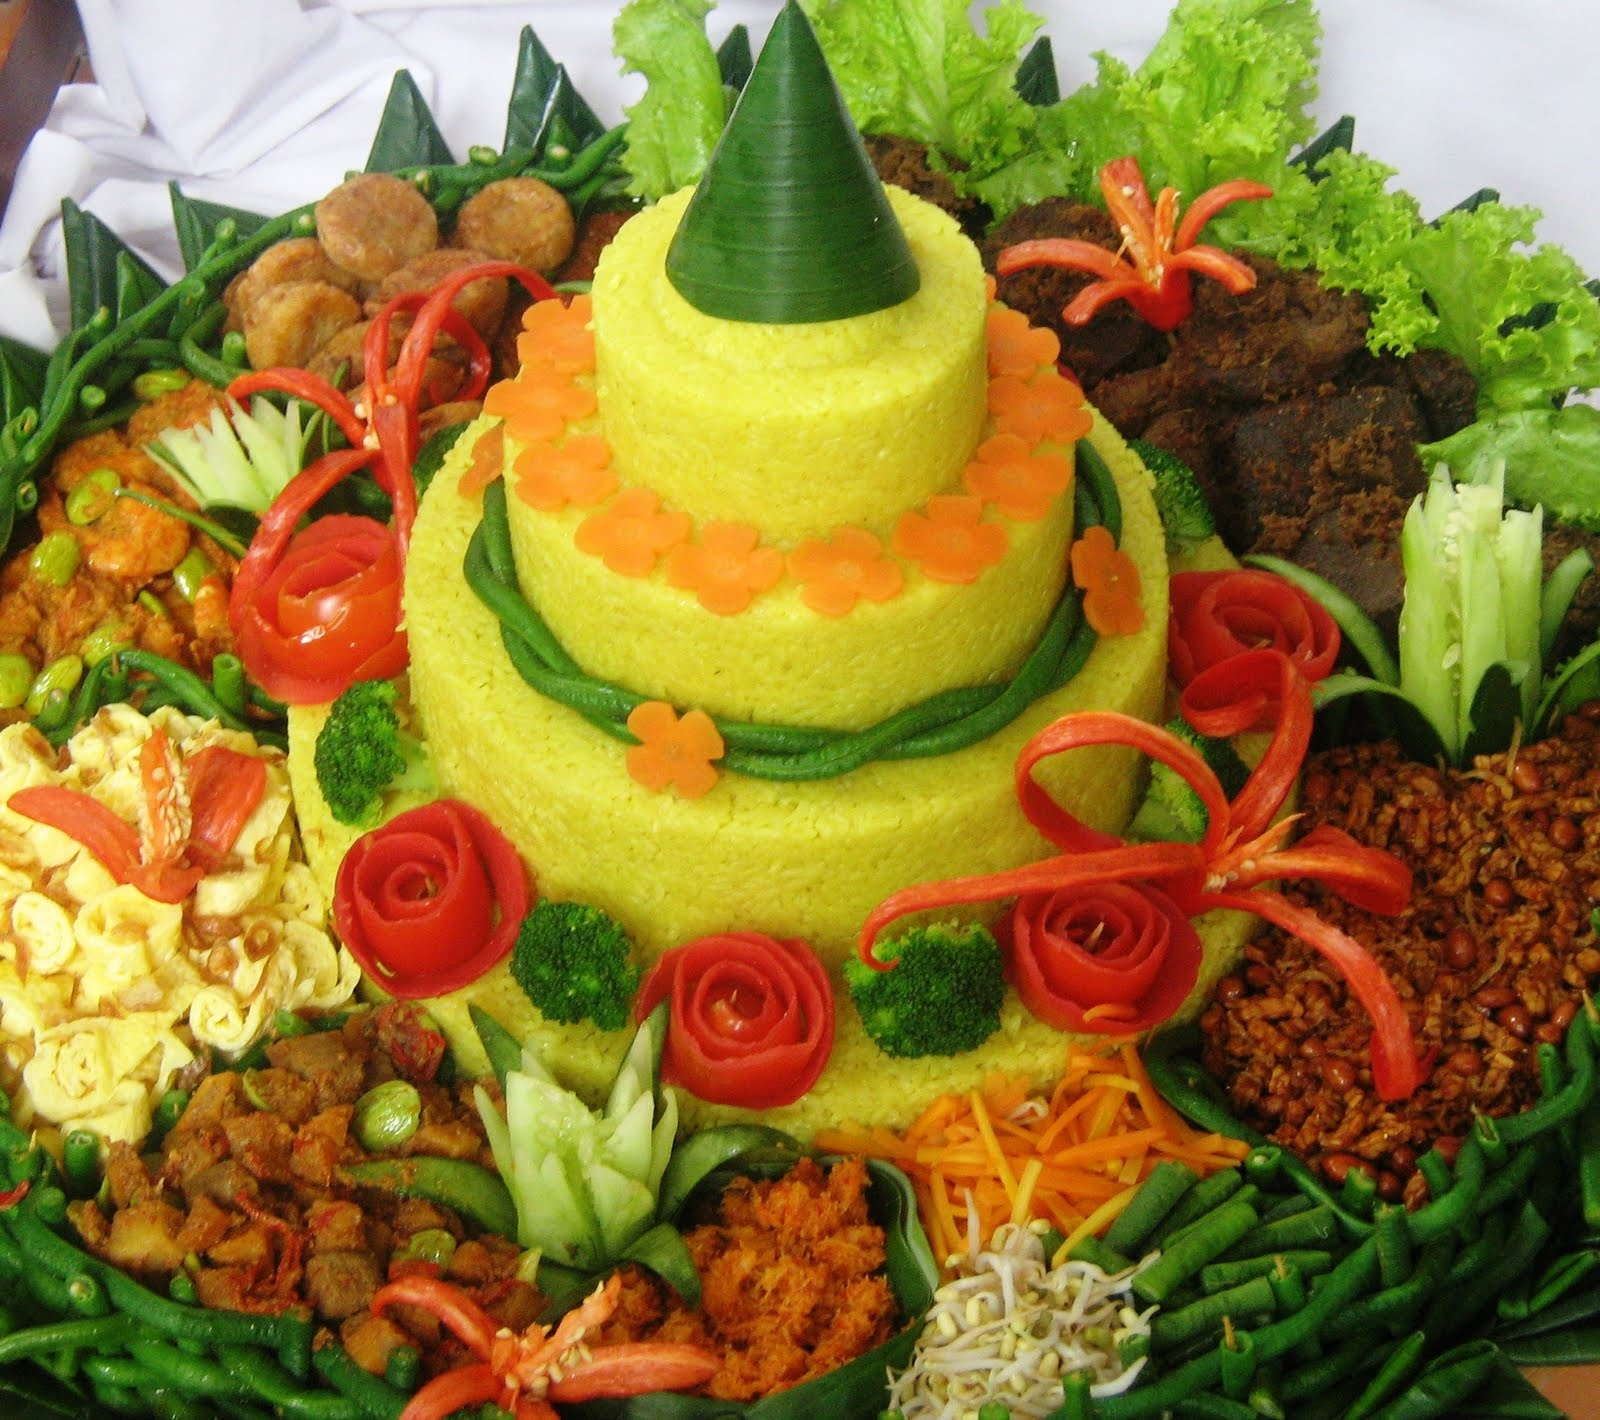tumpeng: (533, 12, 945, 402)
